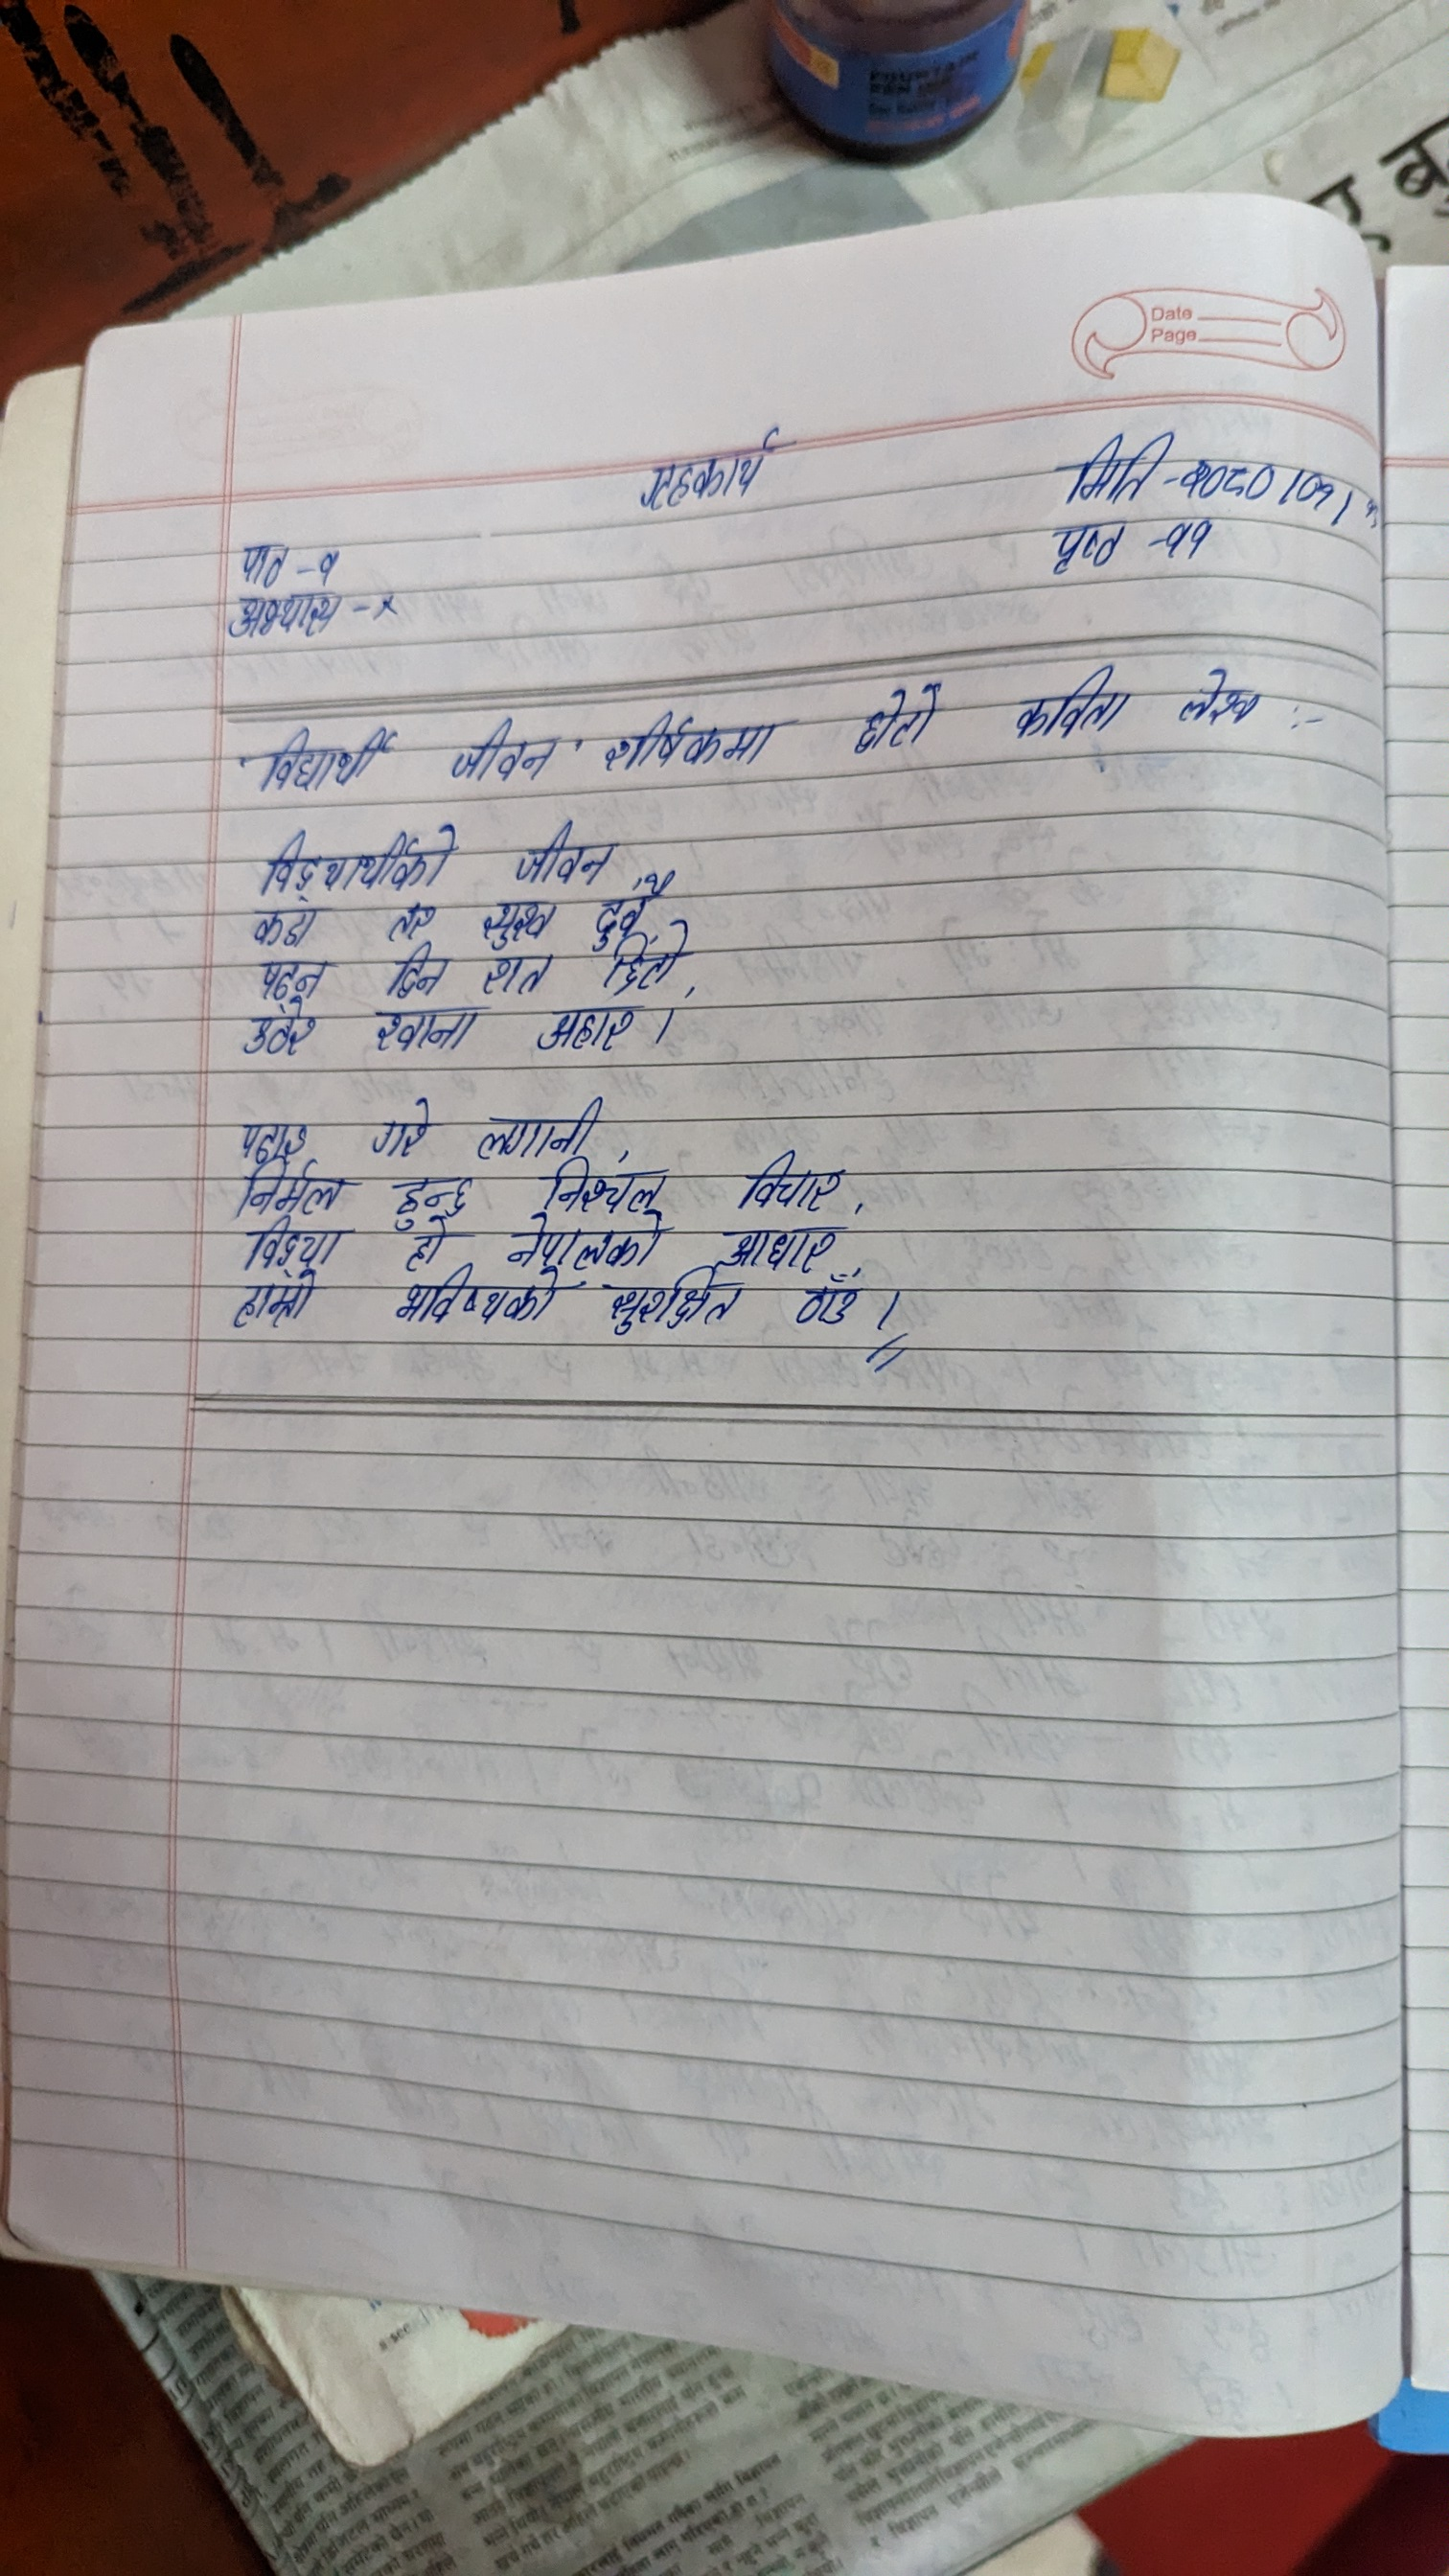text: (251, 819, 458, 899), (619, 430, 807, 510), (600, 701, 786, 780), (421, 706, 577, 789), (239, 717, 393, 800), (823, 674, 977, 757), (996, 671, 1150, 754), (389, 1269, 568, 1332), (587, 1272, 766, 1336), (1168, 663, 1284, 741), (522, 1157, 683, 1212), (504, 1214, 663, 1269), (471, 1095, 610, 1155), (722, 1152, 862, 1212), (1060, 428, 1168, 502), (1178, 437, 1283, 508), (515, 814, 619, 885), (221, 1269, 336, 1330), (386, 1159, 501, 1221), (1030, 517, 1141, 580), (232, 589, 341, 653), (775, 1270, 881, 1332), (713, 1224, 849, 1270), (234, 1217, 356, 1267), (372, 1005, 481, 1060), (237, 1168, 359, 1215), (529, 1003, 639, 1056), (600, 941, 708, 994), (364, 1088, 437, 1162), (577, 892, 685, 938), (241, 1003, 320, 1063), (476, 950, 568, 1001), (237, 1104, 315, 1164), (377, 945, 455, 1000), (239, 904, 327, 952), (476, 901, 563, 948), (373, 901, 451, 945), (253, 957, 331, 1001), (1159, 520, 1223, 573), (241, 534, 292, 589), (363, 587, 419, 625), (306, 541, 347, 586), (405, 1221, 444, 1267)
